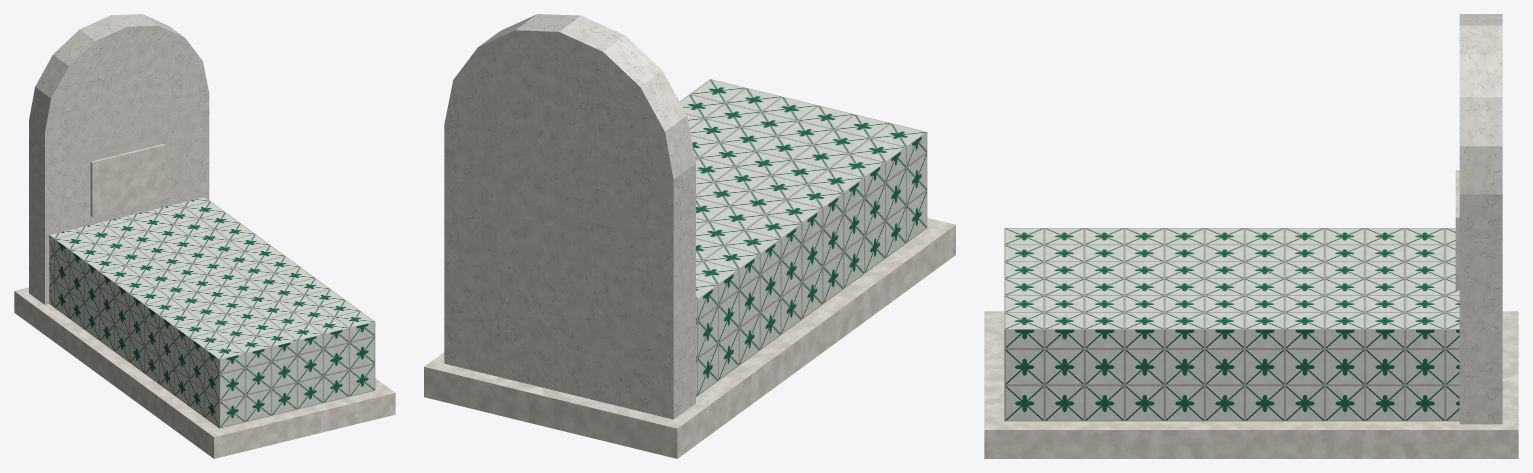
Rendered from tumba_azulejo.obj.
3 renders of one model, left to right at view 1: azimuth 30°, elevation 25°; view 2: azimuth 150°, elevation 25°; view 3: azimuth 270°, elevation 25°, orthographic. The views are drawn at different scales.
Visible parts, largest first — view 1: Cube.001, Cylinder, Cube.002, Cube, Cube.003; view 2: Cube.002, Cube.001, Cylinder, Cube; view 3: Cube.001, Cube, Cube.002, Cylinder, Cube.003.
Part boxes in pixels (bbox=[...]): Cube.001: bbox=[49, 197, 375, 428]; Cylinder: bbox=[29, 14, 208, 196]; Cube.002: bbox=[29, 93, 209, 304]; Cube: bbox=[14, 287, 395, 458]; Cube.003: bbox=[90, 144, 164, 216]; Cube.002: bbox=[444, 124, 695, 419]; Cube.001: bbox=[679, 79, 927, 396]; Cylinder: bbox=[444, 14, 695, 272]; Cube: bbox=[424, 218, 955, 458]; Cube.001: bbox=[1004, 228, 1459, 421]; Cube: bbox=[984, 311, 1518, 458]; Cube.002: bbox=[1459, 194, 1502, 424]; Cylinder: bbox=[1459, 14, 1502, 194]; Cube.003: bbox=[1455, 170, 1459, 290].
Bounding box in the file's own units: 1.05 × 1.54 × 2.
3 materials, 3 textured.
